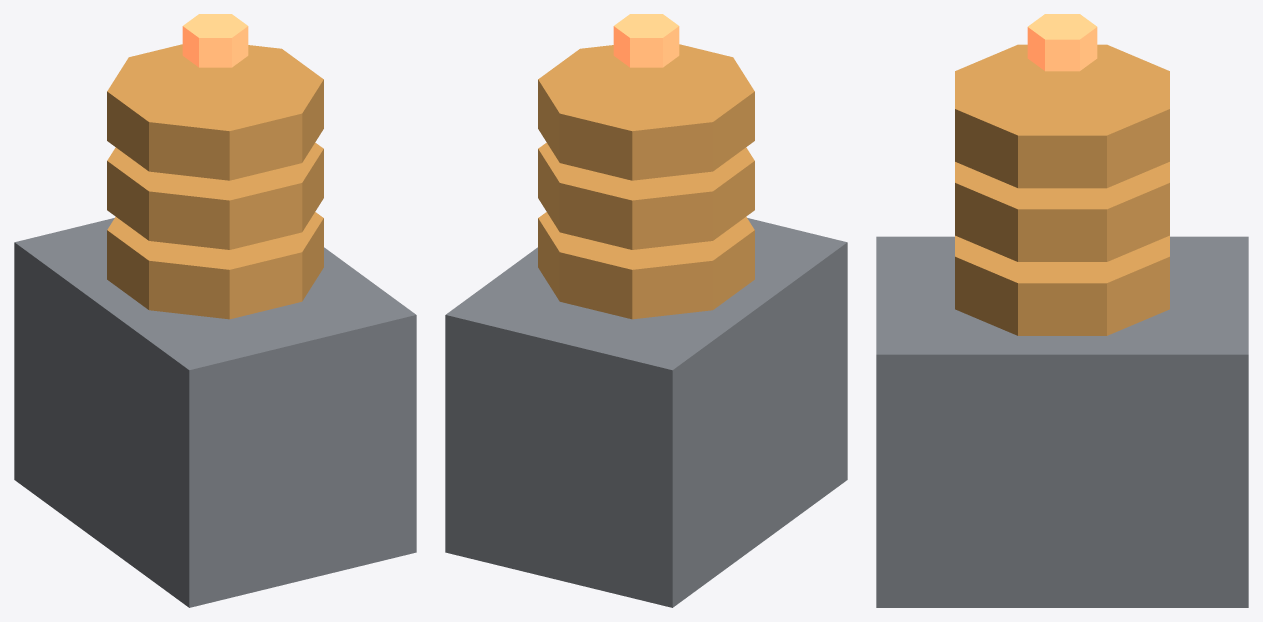
The model's file is mine-layer.glb.
The picture shows the model from 3 angles, left to right: view 1: azimuth 30°, elevation 25°; view 2: azimuth 150°, elevation 25°; view 3: azimuth 270°, elevation 25°; orthographic projection. The views are drawn at different scales.
Parts seen in each view (by area): view 1: gun; view 2: gun; view 3: gun.
Part boxes in pixels (left/top/right/bottom): gun: left=14, top=14, right=416, bottom=607; gun: left=445, top=14, right=847, bottom=607; gun: left=876, top=14, right=1248, bottom=607.
Size of the model in its own units: 0.24 by 0.495 by 0.32.
